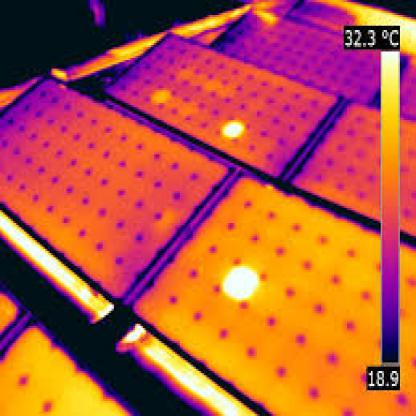Defects: (221, 262, 258, 304), (220, 116, 244, 146), (151, 84, 172, 109)
